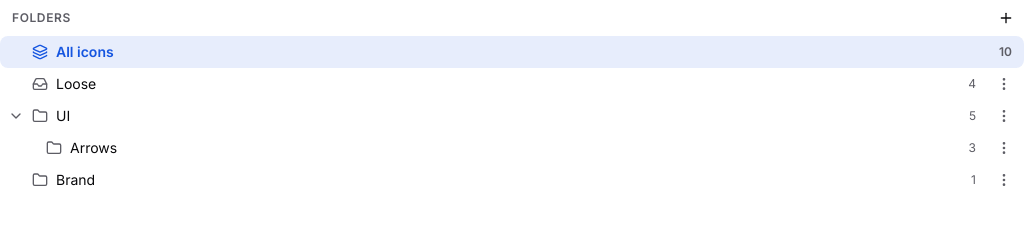
Scenario: the Uncategorized menu › offers rename and move-to-trash to the owner, with the group's own name shown
This screenshot has width=1024, height=248.
Expected: the button "Loose 4" is shown, 32,68 -> 984,100
What coordinates should you click on to do the following:
click the button named "Actions for Loose"
I would click on:
 (1004, 84)
Its box is 988,68 -> 1020,100.
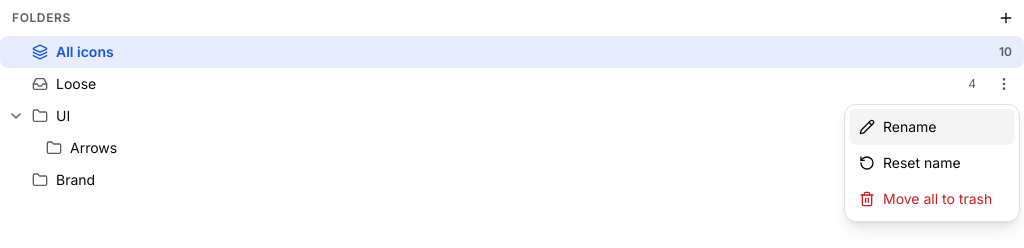
Now the menu items read "Rename", "Reset name", "Move all to trash", in this order, box 849,109 -> 1015,145; 849,145 -> 1015,181; 849,181 -> 1015,217
